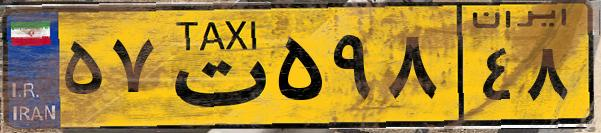4: (475, 38, 525, 113)
5: (270, 28, 330, 110), (57, 26, 110, 100)
7: (110, 28, 158, 98)
8: (385, 28, 445, 110), (525, 38, 570, 115)
9: (330, 28, 385, 110)
ت: (158, 12, 270, 120)
